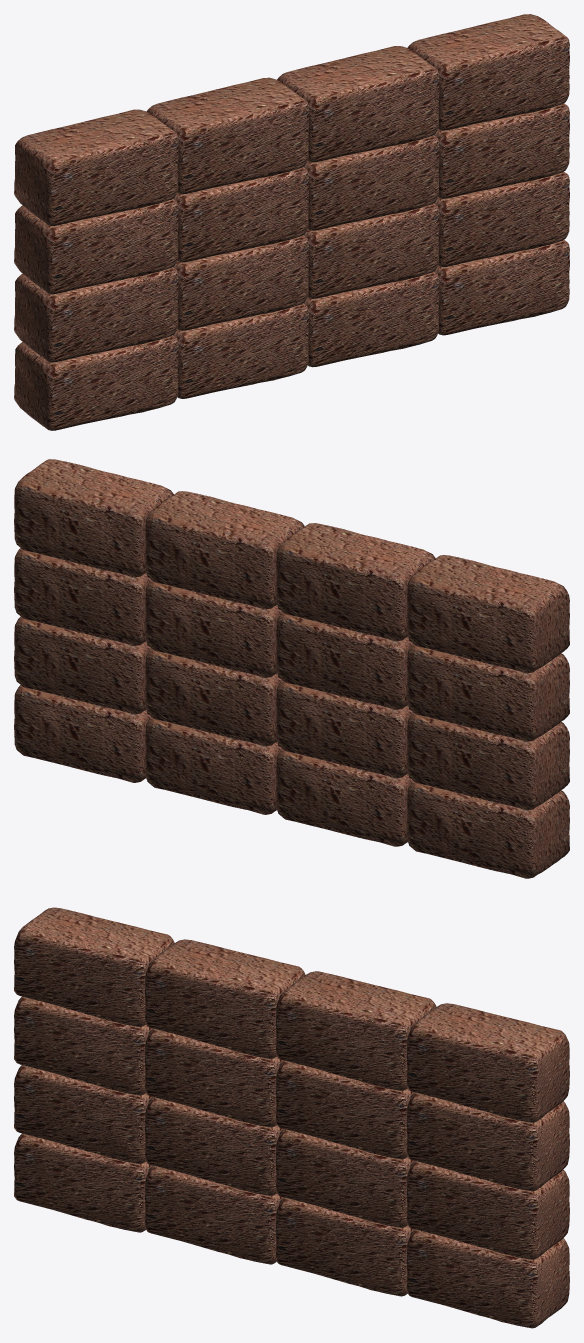
The model's file is Connector.fbx.
The picture shows the model from 3 angles, top to bottom: view 1: azimuth 30°, elevation 25°; view 2: azimuth 150°, elevation 25°; view 3: azimuth 330°, elevation 25°; orthographic projection.
Parts seen in each view (by area): view 1: Cube.031; view 2: Cube.031; view 3: Cube.031.
Part boxes in pixels (box(x1,y1,x2,y2)): Cube.031: box(14, 14, 569, 430); Cube.031: box(14, 459, 569, 878); Cube.031: box(14, 907, 569, 1328).
Bounding box in the file's own units: 400 × 200 × 50.02.
1 material, 1 textured.
